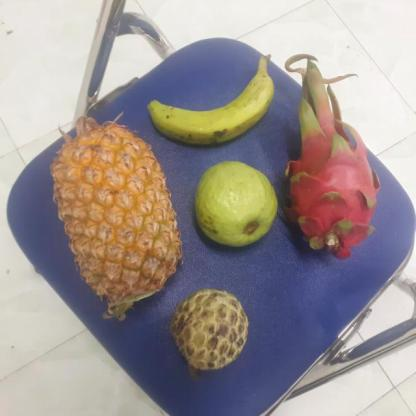annona: (166, 287, 249, 371)
banana: (145, 67, 269, 146)
guava: (188, 162, 279, 248)
pineapple: (44, 124, 180, 312)
pitaya: (278, 116, 377, 253)
